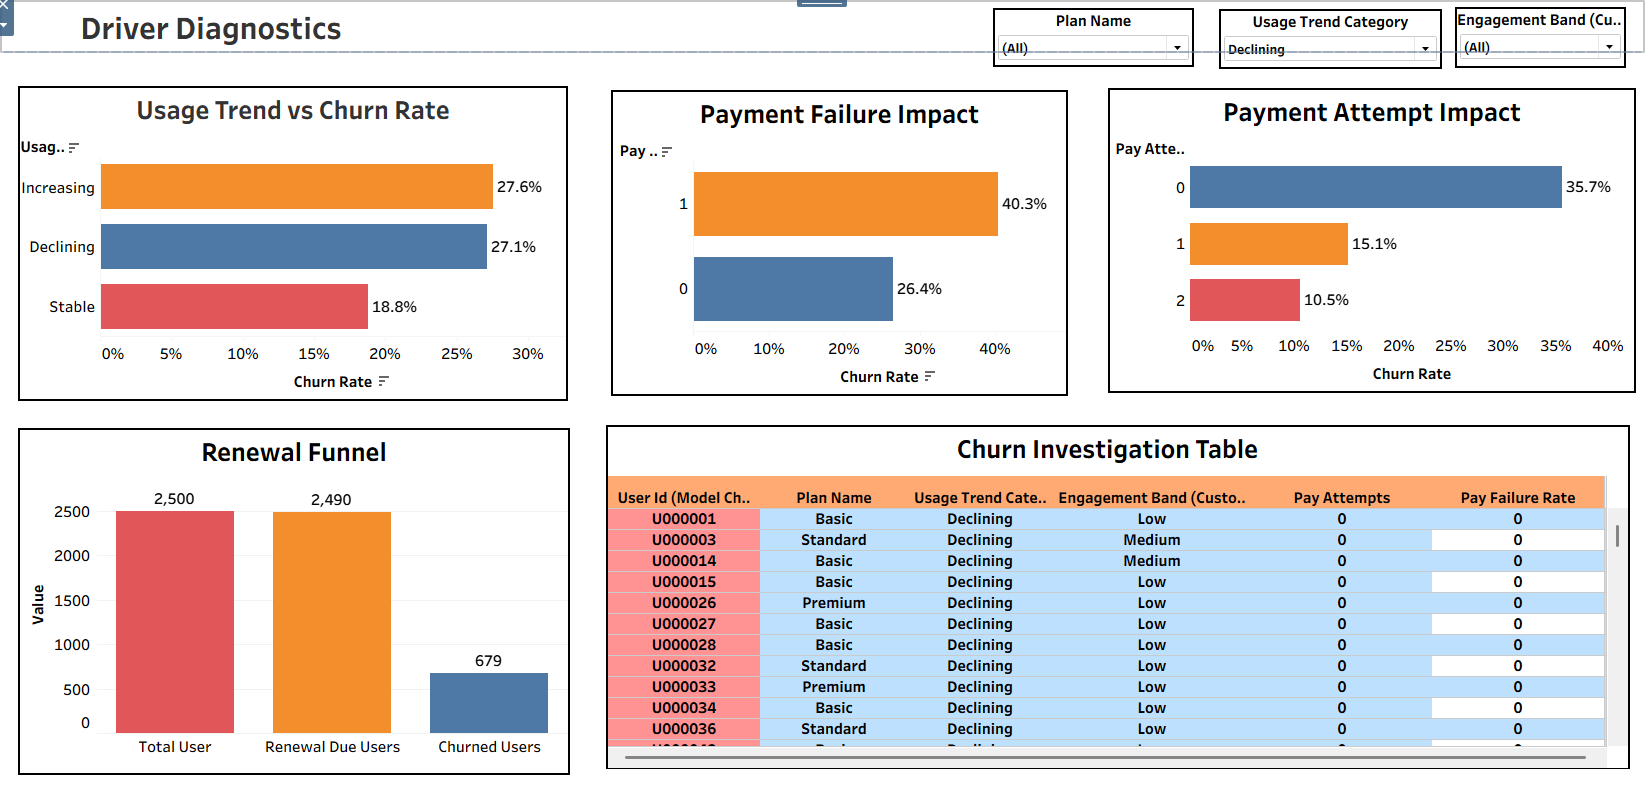

Layout of this report page (visuals, bound fields, positions):
{"tool":"tableau","page":{"name":"Driver Diagnostics","canvas":[1000,1000],"units":"permille","ordinal":1},"visuals":[{"type":"title","box":[4.8,10,990.3,61.2]},{"type":"filter","title":"Churn Investigation Table","param":"[federated.1hm0nyg04ymwhy1c56p9b1mbue5k].[none:Calculation_-3343078253529890809:","box":[881.8,16.1,103.1,76.4]},{"type":"filter","title":"Churn Investigation Table","param":"[federated.1hm0nyg04ymwhy1c56p9b1mbue5k].[none:plan_name:nk]","box":[602.8,17.4,121.3,73.7]},{"type":"filter","title":"Churn Investigation Table","param":"[federated.1hm0nyg04ymwhy1c56p9b1mbue5k].[none:Calculation_3987937515498881025:n","box":[739.2,18.8,134.6,75.1]},{"type":"worksheet","title":"Usage Decline Pattern","mark":"Automatic","rows":["Calculation_3987937515498881025"],"cols":["Calculation_-3470586418499944448"],"box":[14.6,115.3,331.7,392.8]},{"type":"worksheet","title":"Payment Attempt Impact","mark":"Automatic","rows":["pay_attempts"],"cols":["Calculation_-3470586418499944448"],"box":[672.5,118,318.4,380.7]},{"type":"worksheet","title":"Payment Failure Impact","mark":"Automatic","rows":["pay_failures"],"cols":["Calculation_-3470586418499944448"],"box":[372.4,119.3,275.9,382]},{"type":"legend","title":"Churn Investigation Table","param":"[federated.1hm0nyg04ymwhy1c56p9b1mbue5k].[none:Calculation_3987937515498881025:n","box":[534.3,148.8,84.9,135.4]},{"type":"worksheet","title":"Churn Investigation Table","mark":"Automatic","rows":["user_id (model_churn_dataset.csv)","plan_name","Calculation_3987937515498881025","Calculation_-3343078253529890809","pay_attempts","pay_failure_rate"],"box":[369.3,537.5,618,430.3]},{"type":"worksheet","title":"Renewal Funnel","mark":"Automatic","box":[14.6,541.5,332.9,433]}]}

Visuals, with their boxes on the dashboard's canvas, which has no fixed pixel size, in thousandths of its width and height (x1, y1, x2, y2). These are canvas units, not pixel positions in the 1647x788 screenshot, which may show the page scaled, cropped or inside an application window:
title: crop(5, 10, 995, 71)
"Churn Investigation Table" filter: crop(882, 16, 985, 92)
"Churn Investigation Table" filter: crop(603, 17, 724, 91)
"Churn Investigation Table" filter: crop(739, 19, 874, 94)
"Usage Decline Pattern" worksheet: crop(15, 115, 346, 508)
"Payment Attempt Impact" worksheet: crop(672, 118, 991, 499)
"Payment Failure Impact" worksheet: crop(372, 119, 648, 501)
"Churn Investigation Table" legend: crop(534, 149, 619, 284)
"Churn Investigation Table" worksheet: crop(369, 538, 987, 968)
"Renewal Funnel" worksheet: crop(15, 542, 348, 974)
